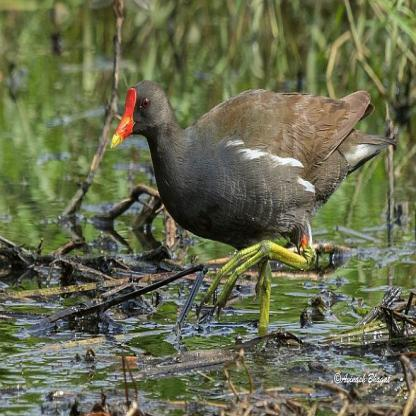Burung: (109, 81, 395, 334)
